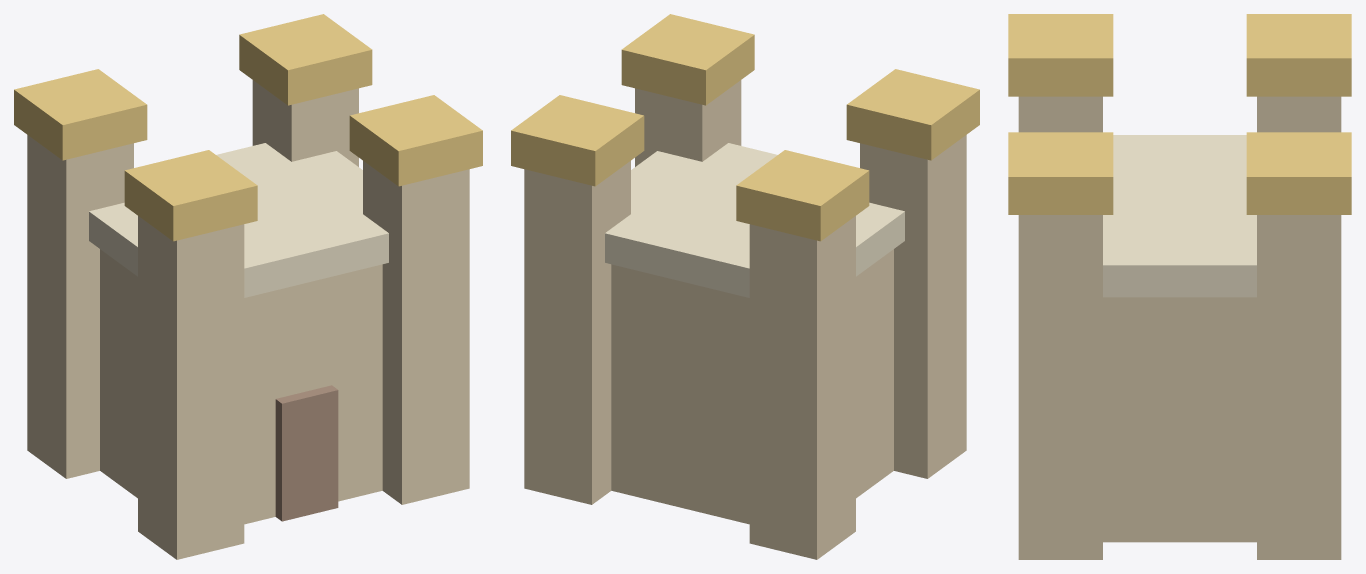
Rendered from castle.gltf.
3 views of the same model, side by side, from view 1: azimuth 30°, elevation 25°; view 2: azimuth 150°, elevation 25°; view 3: azimuth 270°, elevation 25° (orthographic). The views are drawn at different scales.
Bounding box in the file's own units: 2.75 × 3.05 × 2.45.
